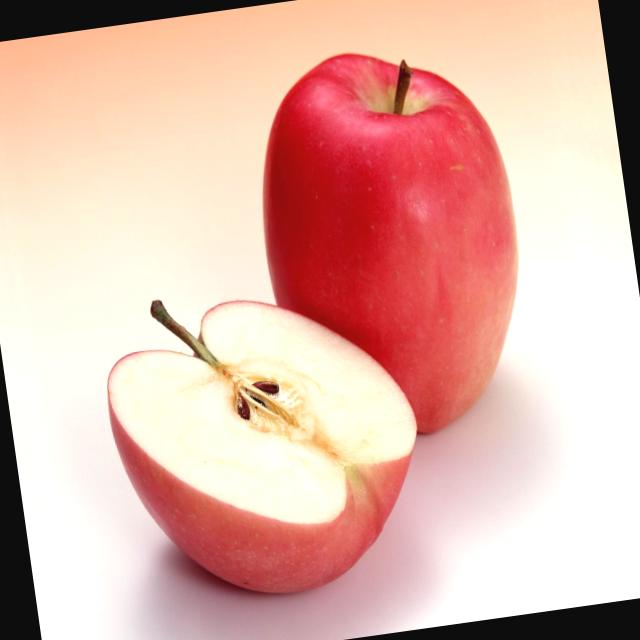apple: (229, 36, 542, 465)
